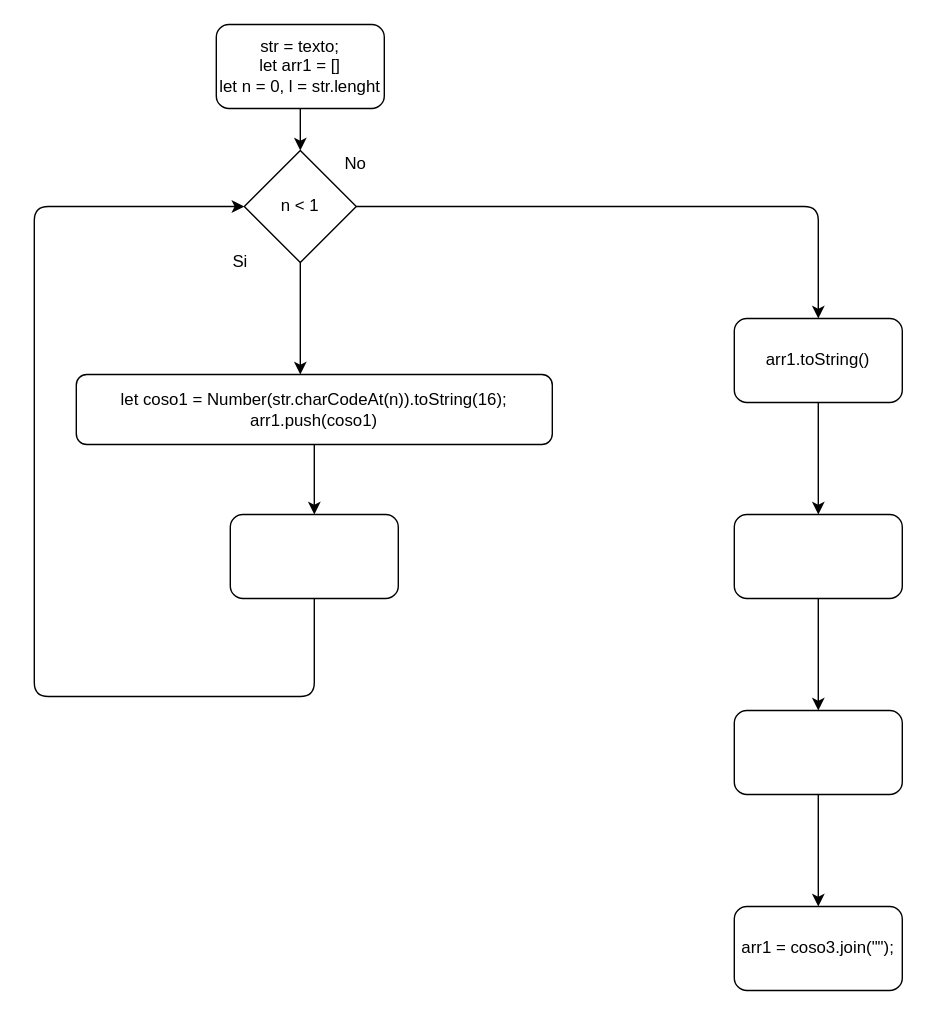
This 927x1015 diagram has some shape labels left out. The shapes that lost their labels are listed below. From the top down, each one's centre as x and y in pixels, then its label:
pixel 313 555: n++
pixel 817 555: let coso2() = arr1.split("");
pixel 817 751: let coso3() = coso2.reverse();
